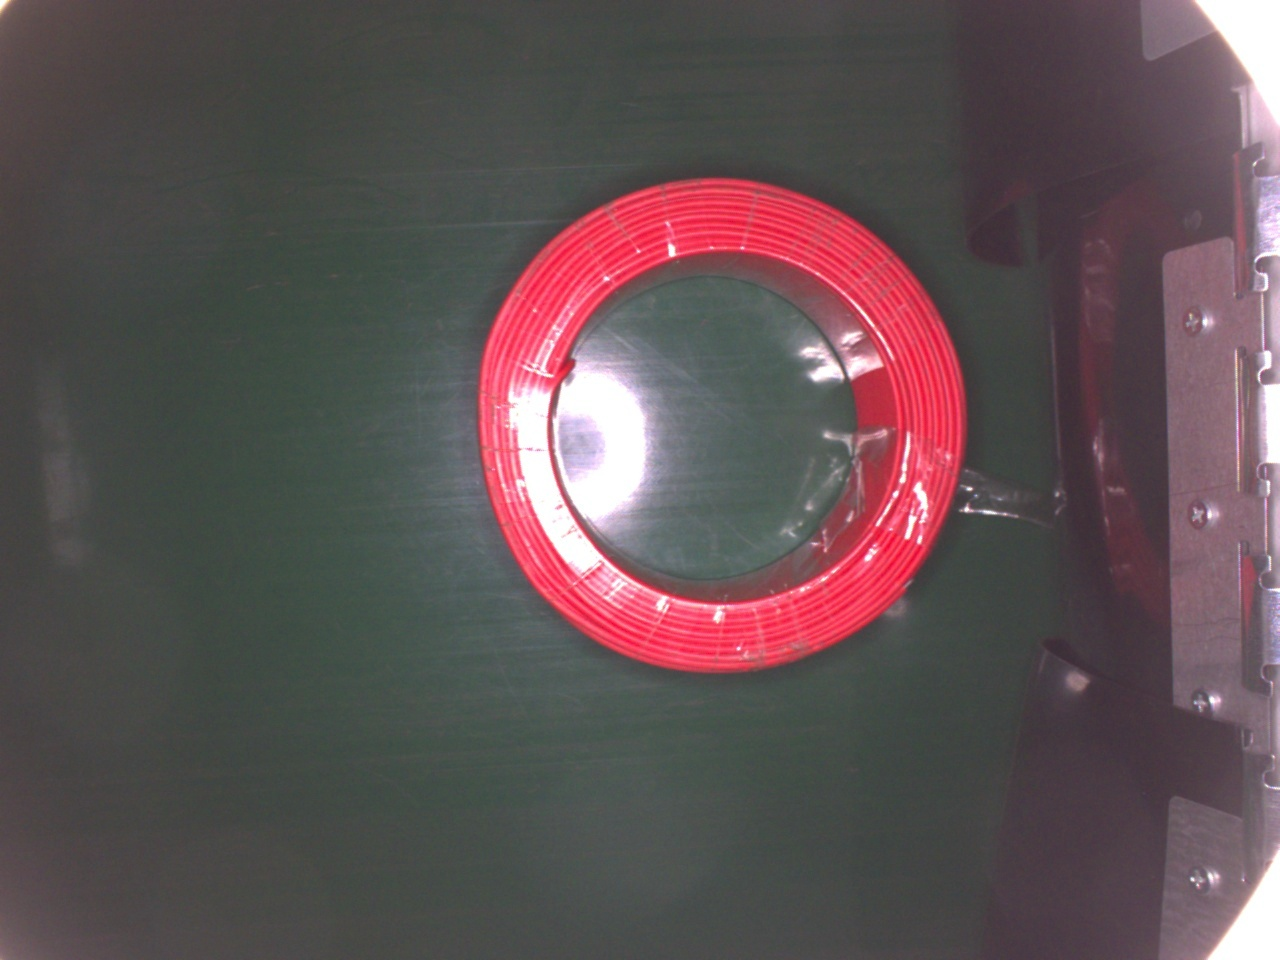red: (476, 173, 969, 677)
